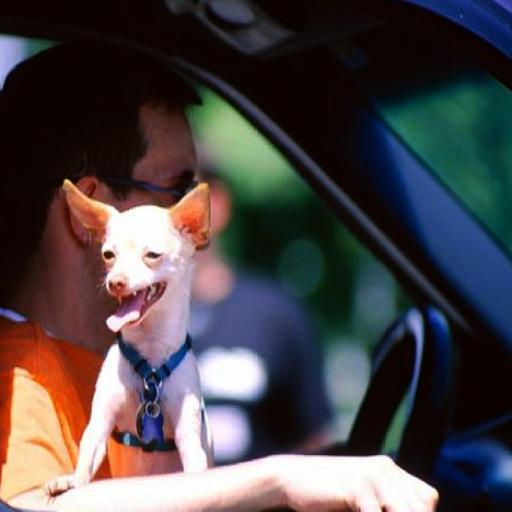dog_face: (57, 179, 212, 338)
